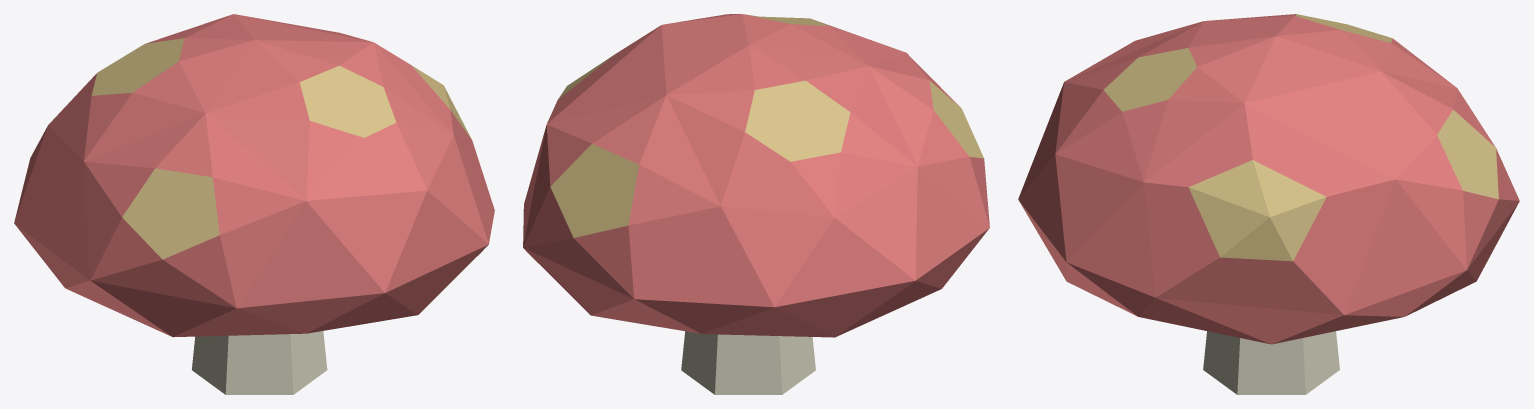
Rendered from resource__plant__mushroom_rounded.fbx.
3 renders of one model, left to right at view 1: azimuth 30°, elevation 25°; view 2: azimuth 150°, elevation 25°; view 3: azimuth 270°, elevation 25°, orthographic.
Visible parts, largest first — view 1: Mushroom_rounded; view 2: Mushroom_rounded; view 3: Mushroom_rounded.
Boxes of the visible parts, left/top/right/bottom form: Mushroom_rounded: left=14, top=14, right=494, bottom=394; Mushroom_rounded: left=523, top=14, right=989, bottom=394; Mushroom_rounded: left=1018, top=14, right=1519, bottom=394.
Size of the model in its own units: 87.39 by 69.3 by 94.79.
